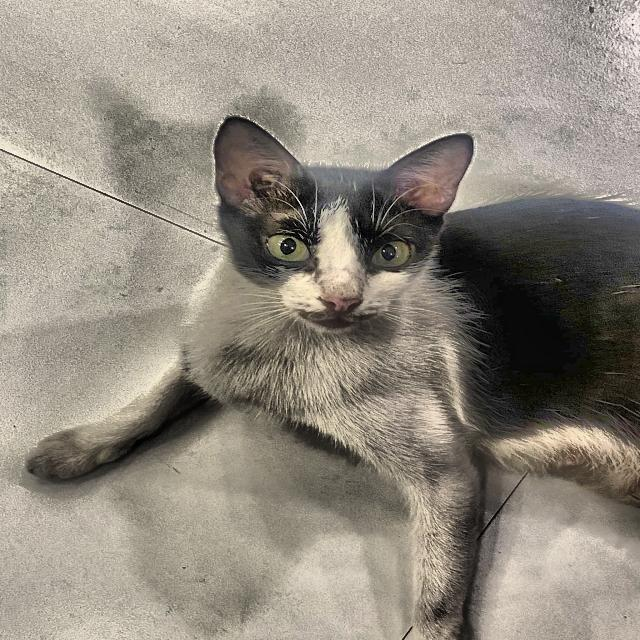Healthy skin: (292, 206, 532, 387)
